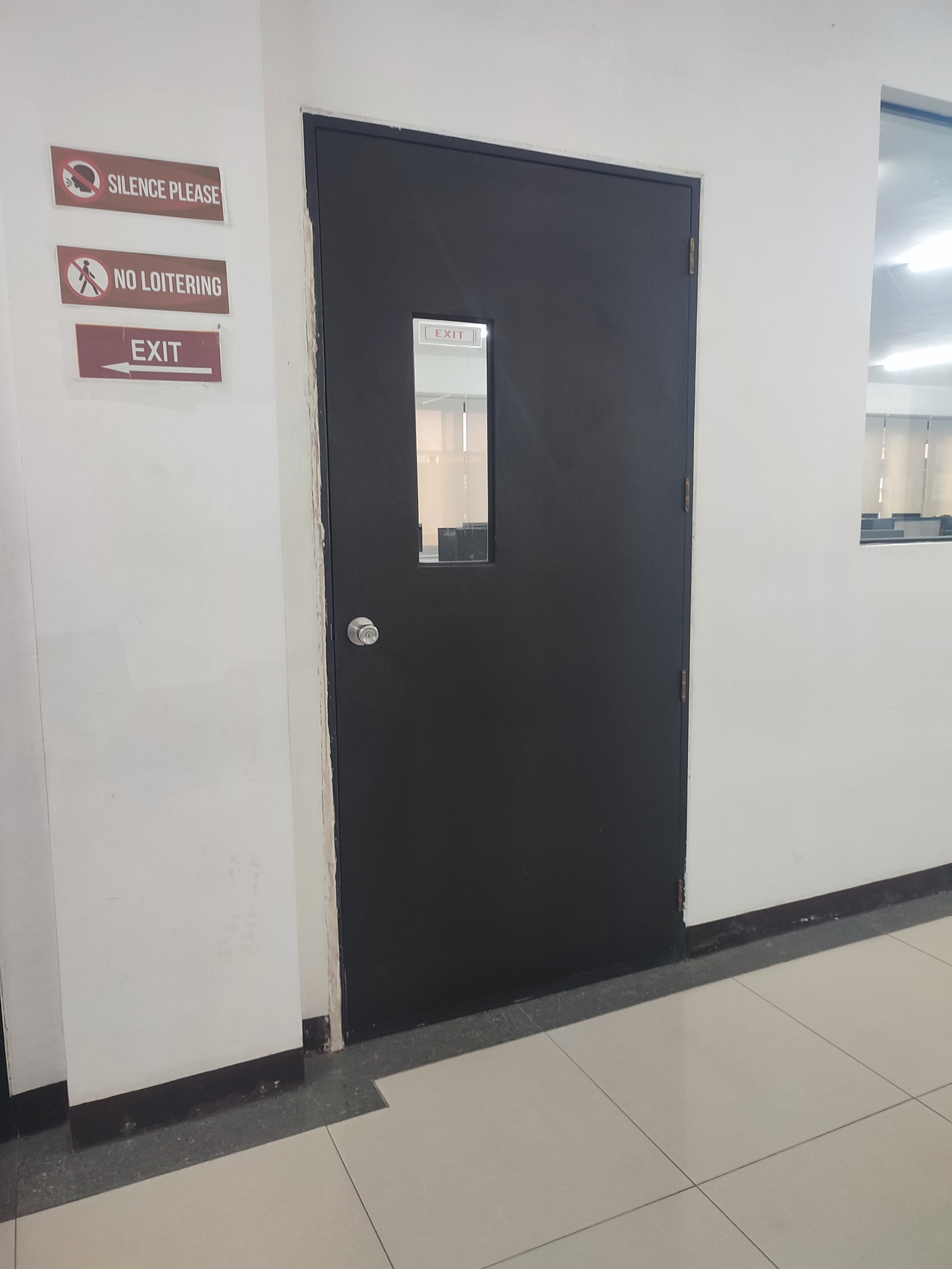door: (300, 116, 702, 1049)
